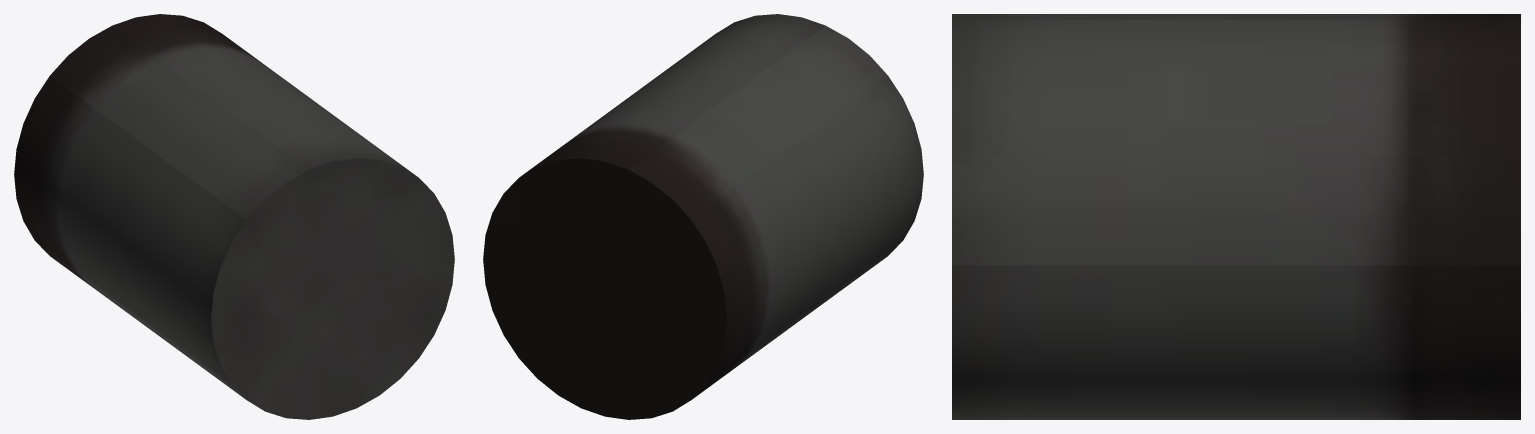
The model's file is body__stem_pn.glb.
The picture shows the model from 3 angles, left to right: view 1: azimuth 30°, elevation 25°; view 2: azimuth 150°, elevation 25°; view 3: azimuth 270°, elevation 25°; orthographic projection. The views are drawn at different scales.
Parts seen in each view (by area): view 1: geometry_0; view 2: geometry_0; view 3: geometry_0.
Part boxes in pixels (left/top/right/bottom): geometry_0: left=14, top=14, right=454, bottom=419; geometry_0: left=483, top=14, right=923, bottom=419; geometry_0: left=952, top=14, right=1520, bottom=419.
Size of the model in its own units: 0.01 by 0.01 by 0.014.
1 material, 1 textured.
